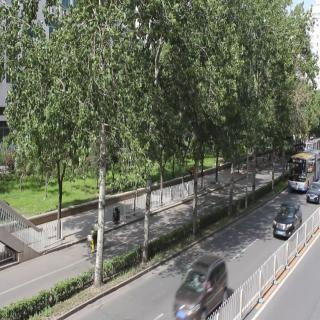BigCar: (287, 148, 314, 195)
Car: (173, 252, 226, 320), (272, 204, 310, 252), (309, 180, 320, 210)
